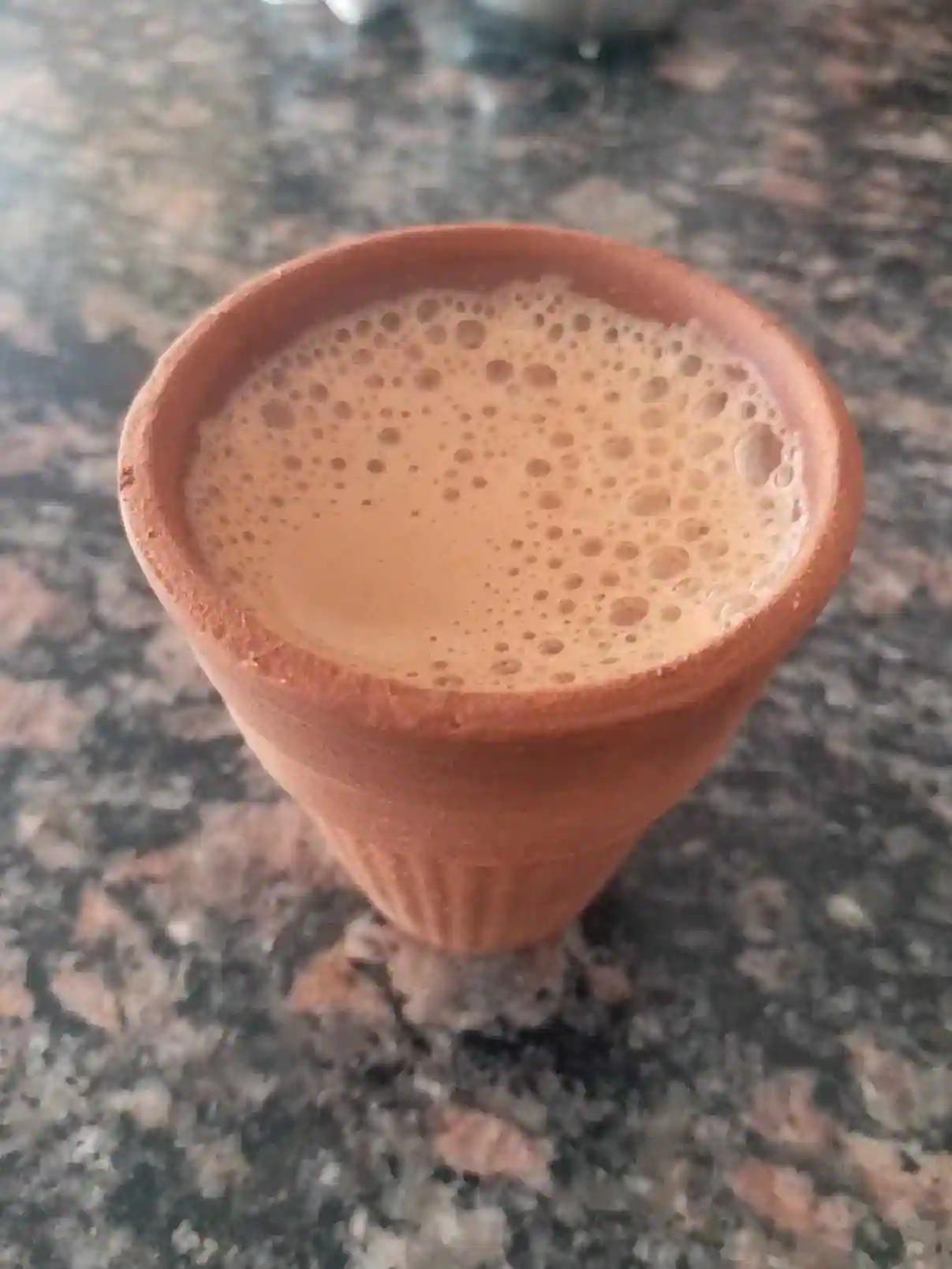Chai: (195, 258, 816, 681)
